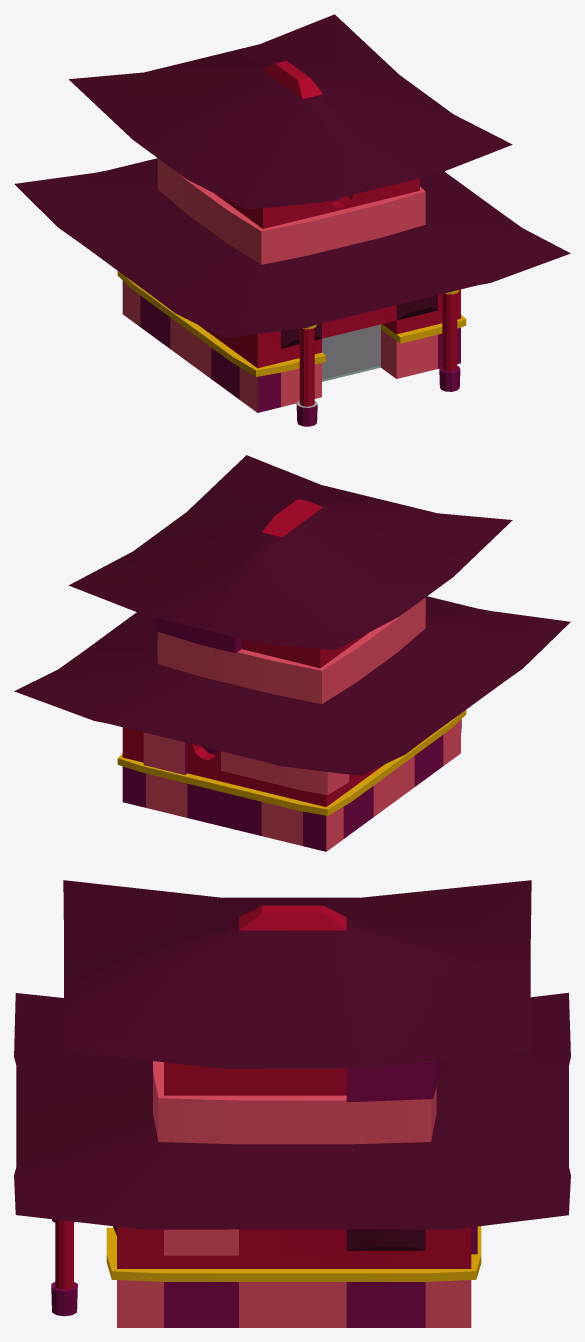
Rendered from Temple.fbx.
3 views of the same model, one above another, from view 1: azimuth 30°, elevation 25°; view 2: azimuth 150°, elevation 25°; view 3: azimuth 270°, elevation 25° (orthographic). The views are drawn at different scales.
Visible parts, largest first — view 1: Temple, ColonneG, ColonneD; view 2: Temple; view 3: Temple, ColonneG.
Boxes of the visible parts, left/top/right/bottom form: Temple: left=14, top=14, right=570, bottom=412; ColonneG: left=439, top=290, right=460, bottom=391; ColonneD: left=296, top=324, right=317, bottom=426; Temple: left=14, top=455, right=570, bottom=851; Temple: left=14, top=880, right=570, bottom=1327; ColonneG: left=51, top=1219, right=77, bottom=1316.
Bounding box in the file's own units: 37.36 × 27.9 × 39.41.
